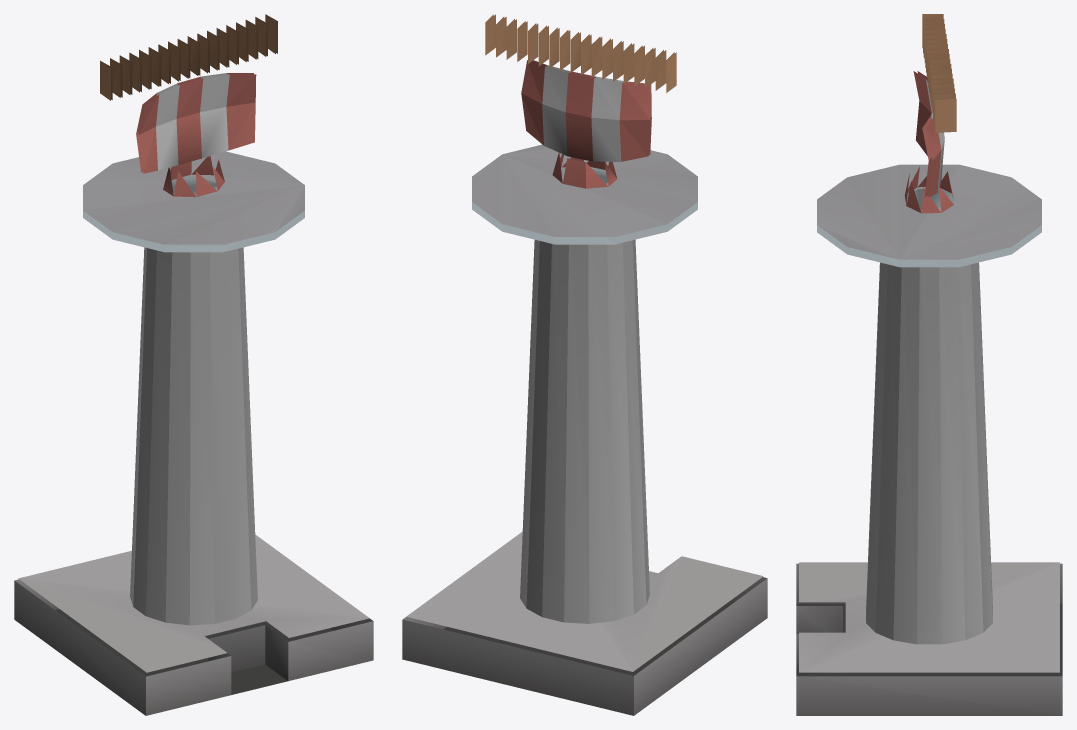
The model's file is radar.lod.glb.
The picture shows the model from 3 angles, left to right: view 1: azimuth 30°, elevation 25°; view 2: azimuth 150°, elevation 25°; view 3: azimuth 270°, elevation 25°; orthographic projection.
Parts seen in each view (by area): view 1: radar; view 2: radar; view 3: radar.
Part boxes in pixels (x1=…): radar: x1=14, y1=14, x2=373, y2=715; radar: x1=402, y1=14, x2=767, y2=715; radar: x1=796, y1=14, x2=1062, y2=715.
Bounding box in the file's own units: 7.2 × 18 × 7.2.
